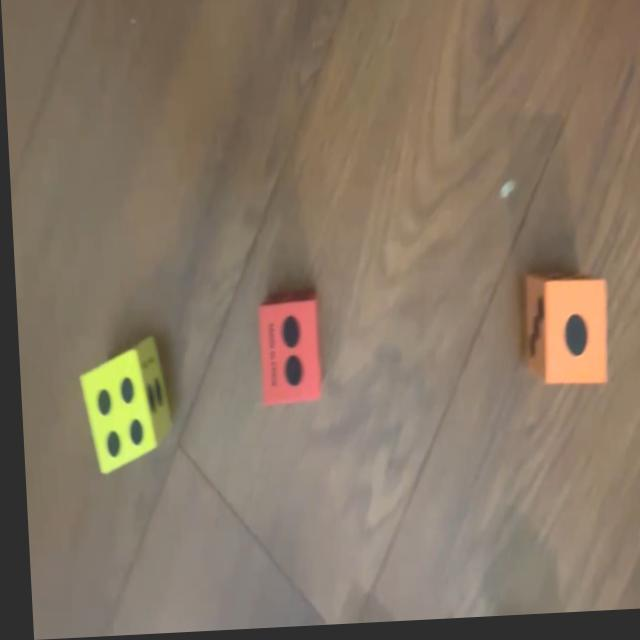red_block: (252, 298, 320, 411)
